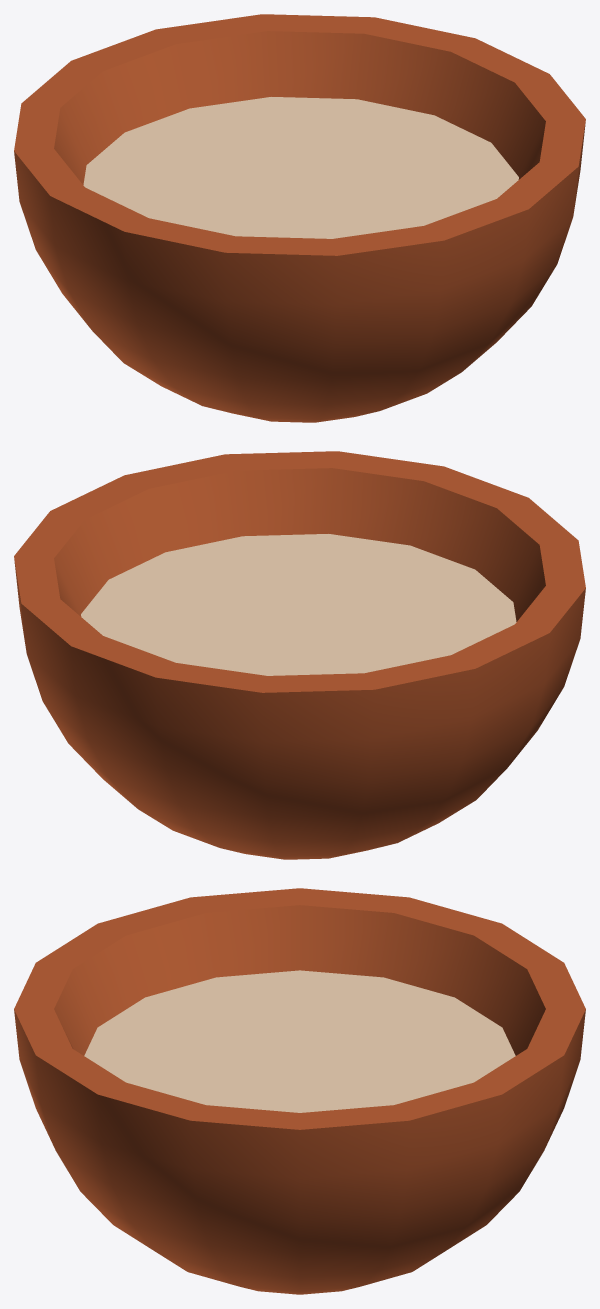
File: Food.fbx
3 renders of one model, top to bottom at view 1: azimuth 30°, elevation 25°; view 2: azimuth 150°, elevation 25°; view 3: azimuth 270°, elevation 25°, orthographic.
Visible parts, largest first — view 1: Sphere; view 2: Sphere; view 3: Sphere.
Boxes of the visible parts, x1,y1,x2,y2 form: Sphere: [14, 14, 585, 422]; Sphere: [14, 451, 585, 859]; Sphere: [14, 888, 585, 1294].
Bounding box in the file's own units: 200 × 100 × 200.
